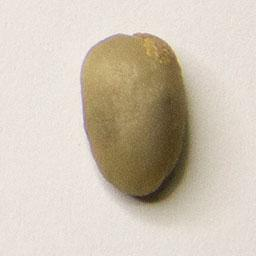longberry: (76, 28, 192, 200)
